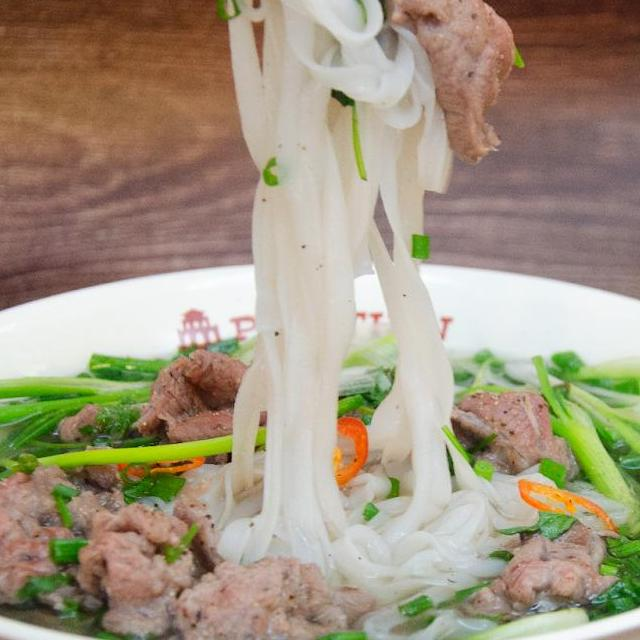banh pho: (213, 0, 480, 586), (430, 457, 562, 585)
pho bo: (0, 0, 640, 640)
thit bo: (305, 0, 521, 174), (70, 491, 230, 640), (457, 508, 633, 633), (0, 456, 132, 615), (169, 549, 377, 640), (444, 383, 597, 496), (120, 339, 256, 456)
